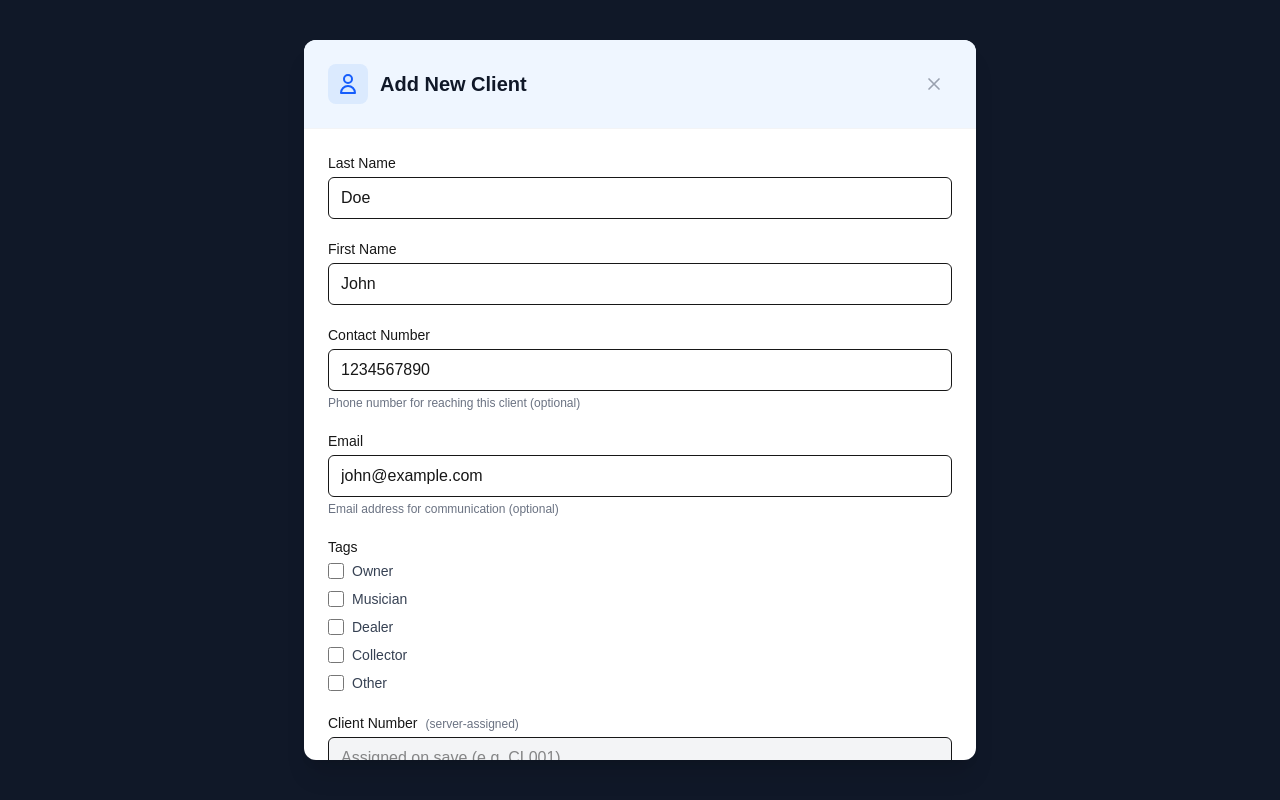
ClientForm - 상호작용/검증/로딩 › 태그 체크 및 토글 버튼
Click the checkbox labelled "Owner" at (336, 571), box [328,563,344,579]
(page scrolled)
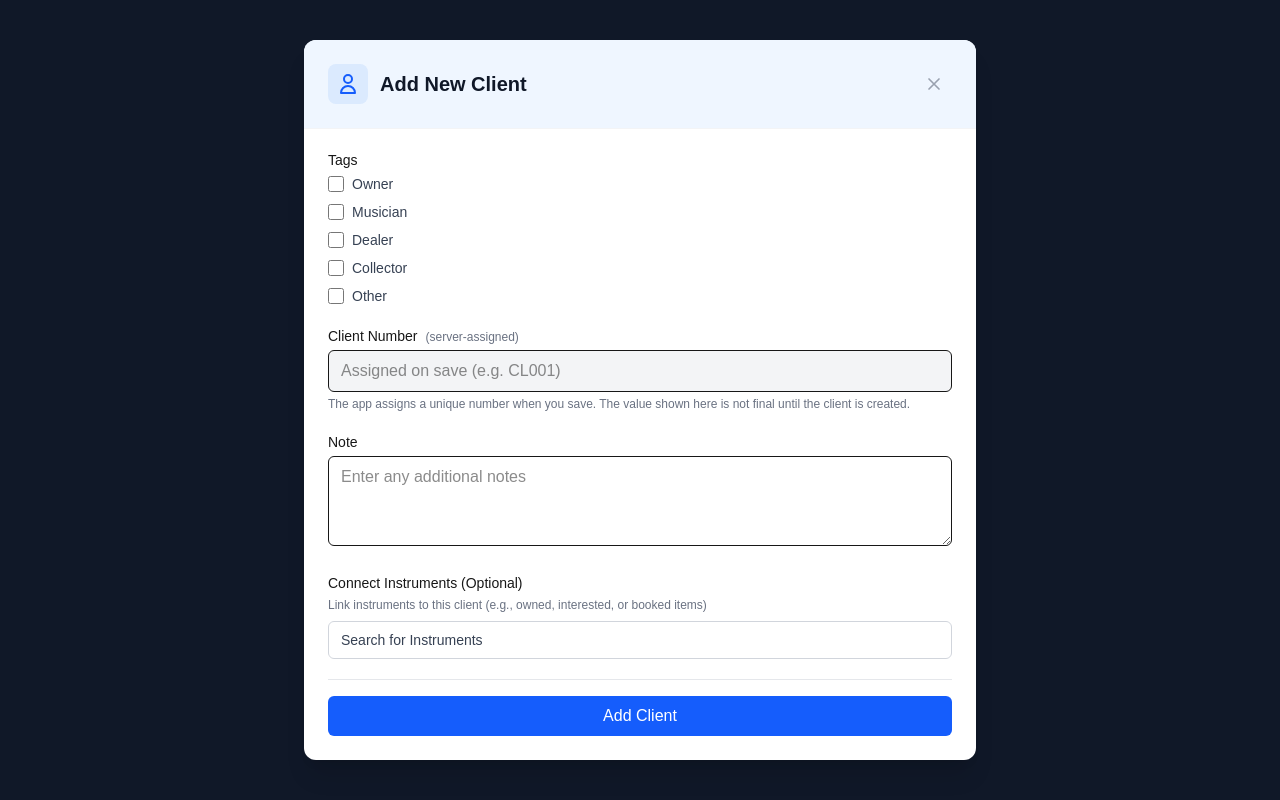
Check: the checkbox labelled "Owner" is shown, box [328,176,344,192]
Click the button "Search for Instruments" at (412, 640), box [328,621,952,659]
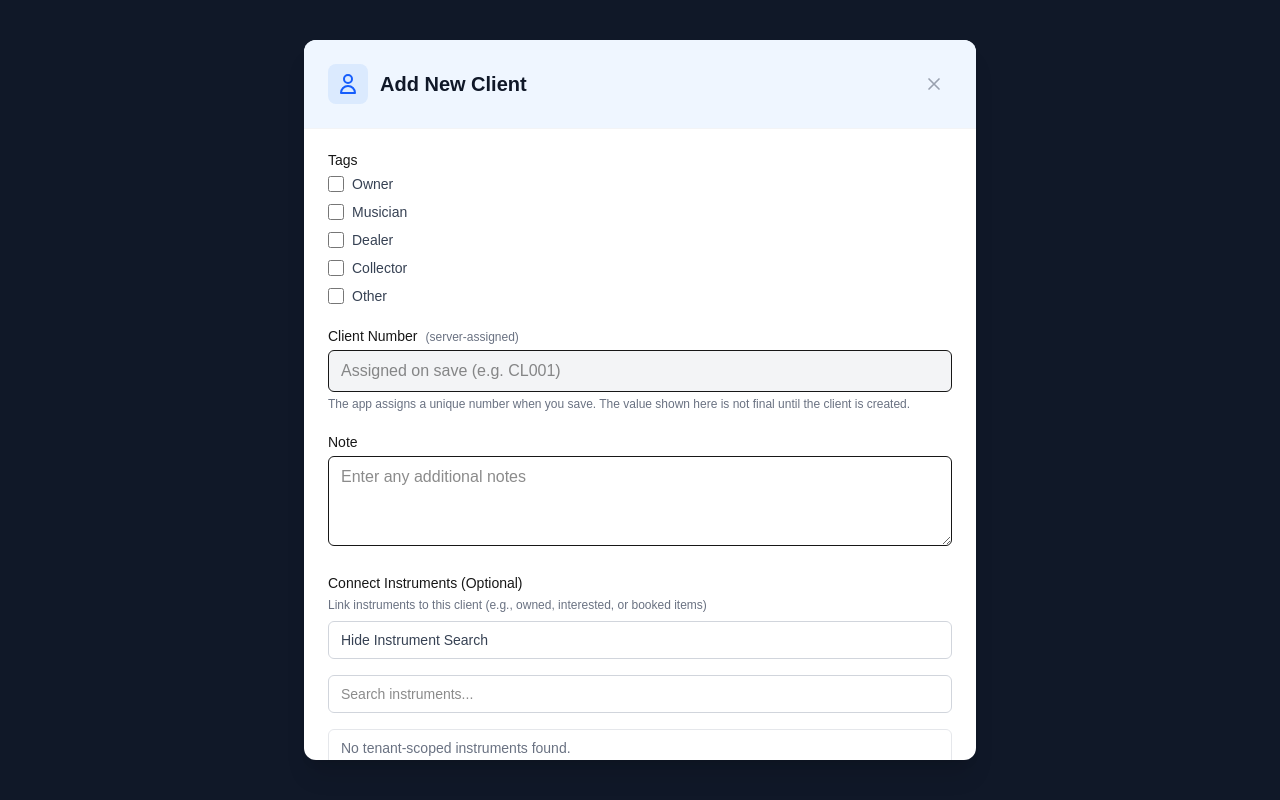
Check: the button "Hide Instrument Search" is shown, box [328,621,952,659]
